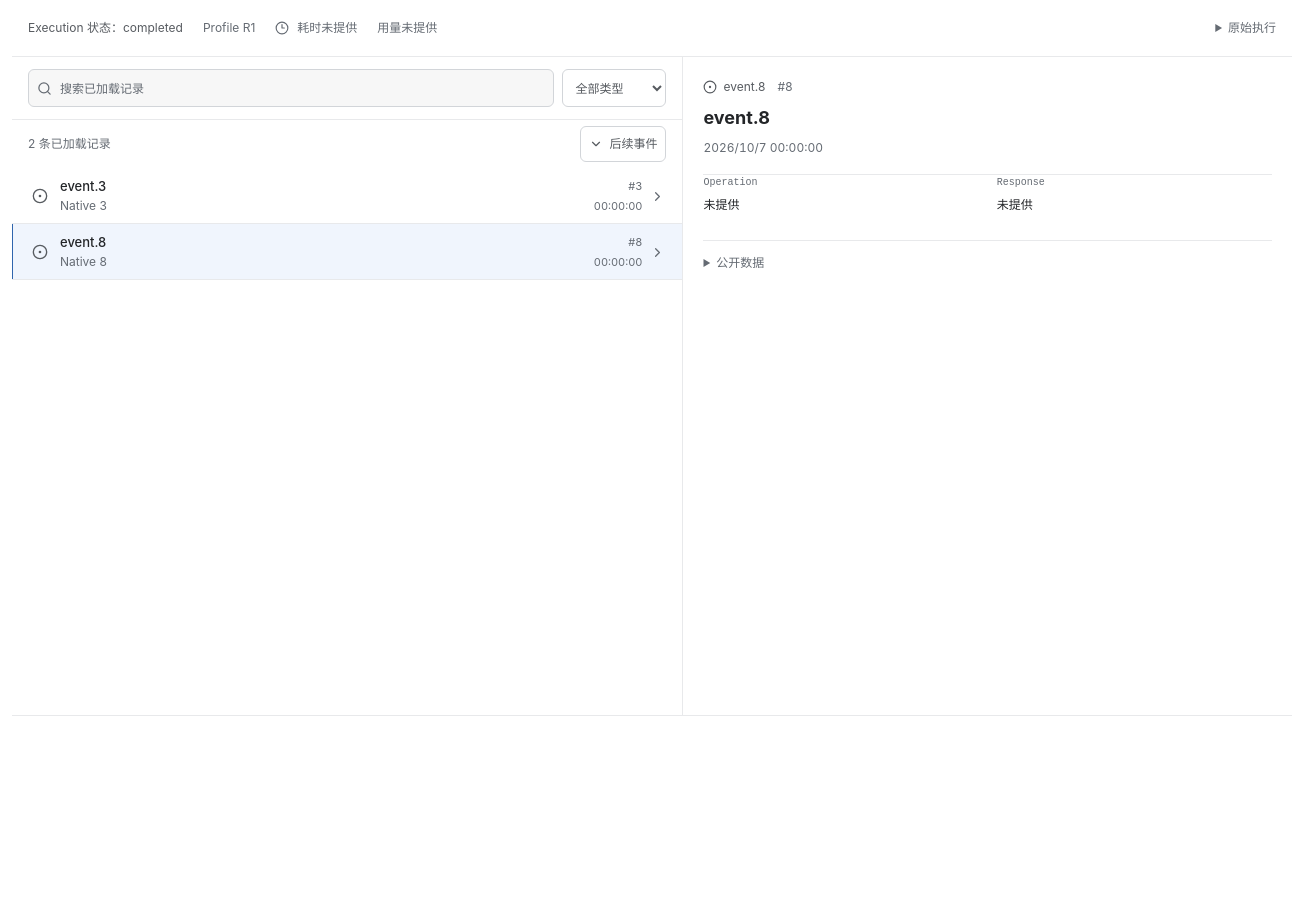
Test: loads a next native page only on request and keeps loaded filters independent
Expected: the heading "event.8" is shown, top-left (704, 107), bottom-right (770, 128)
Type "Native" into the search field.
click(307, 88); type("Native")  # box top-left (60, 70), bottom-right (554, 106)
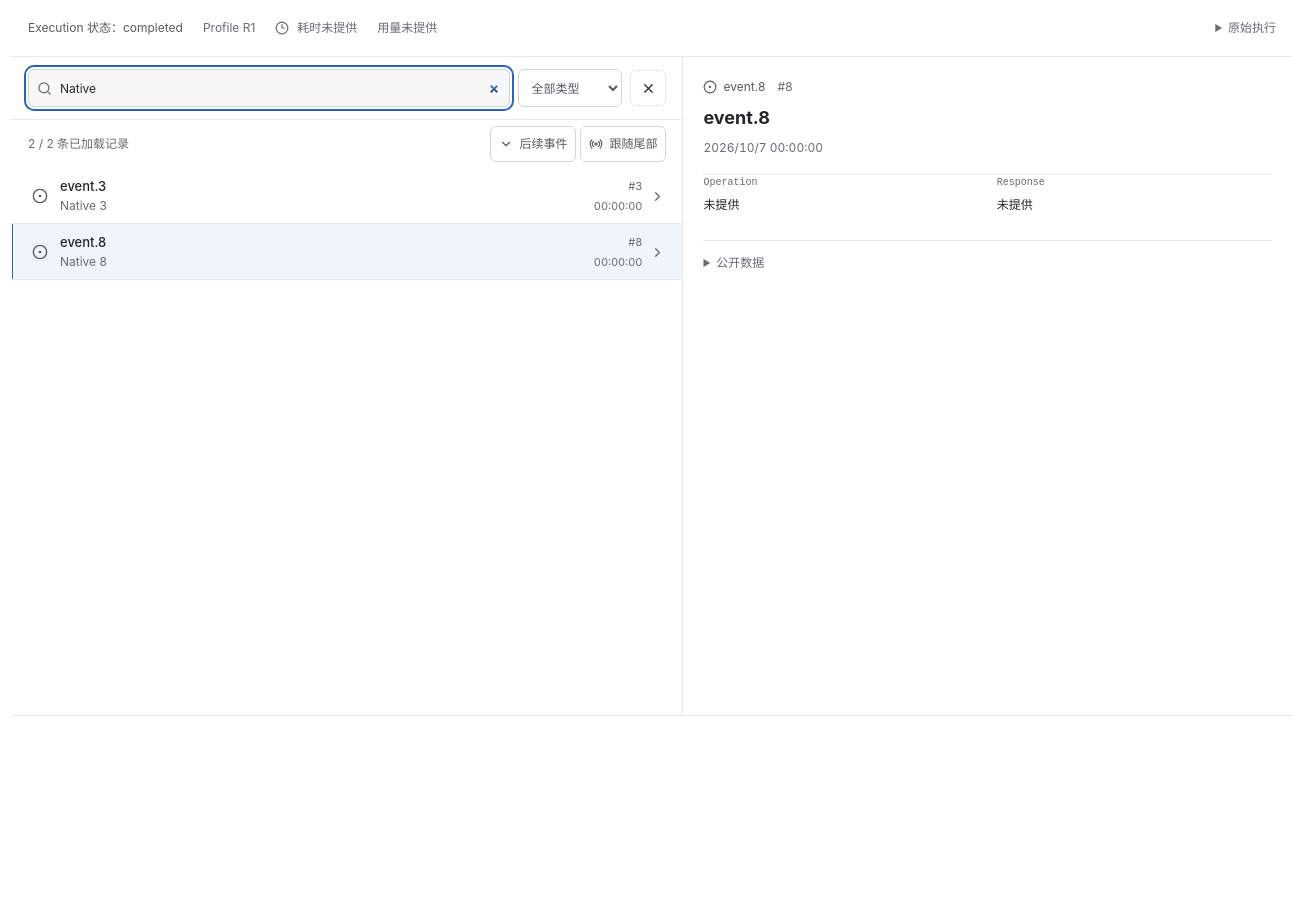
Click the button "后续事件".
click(533, 144)  # box top-left (490, 126), bottom-right (576, 162)
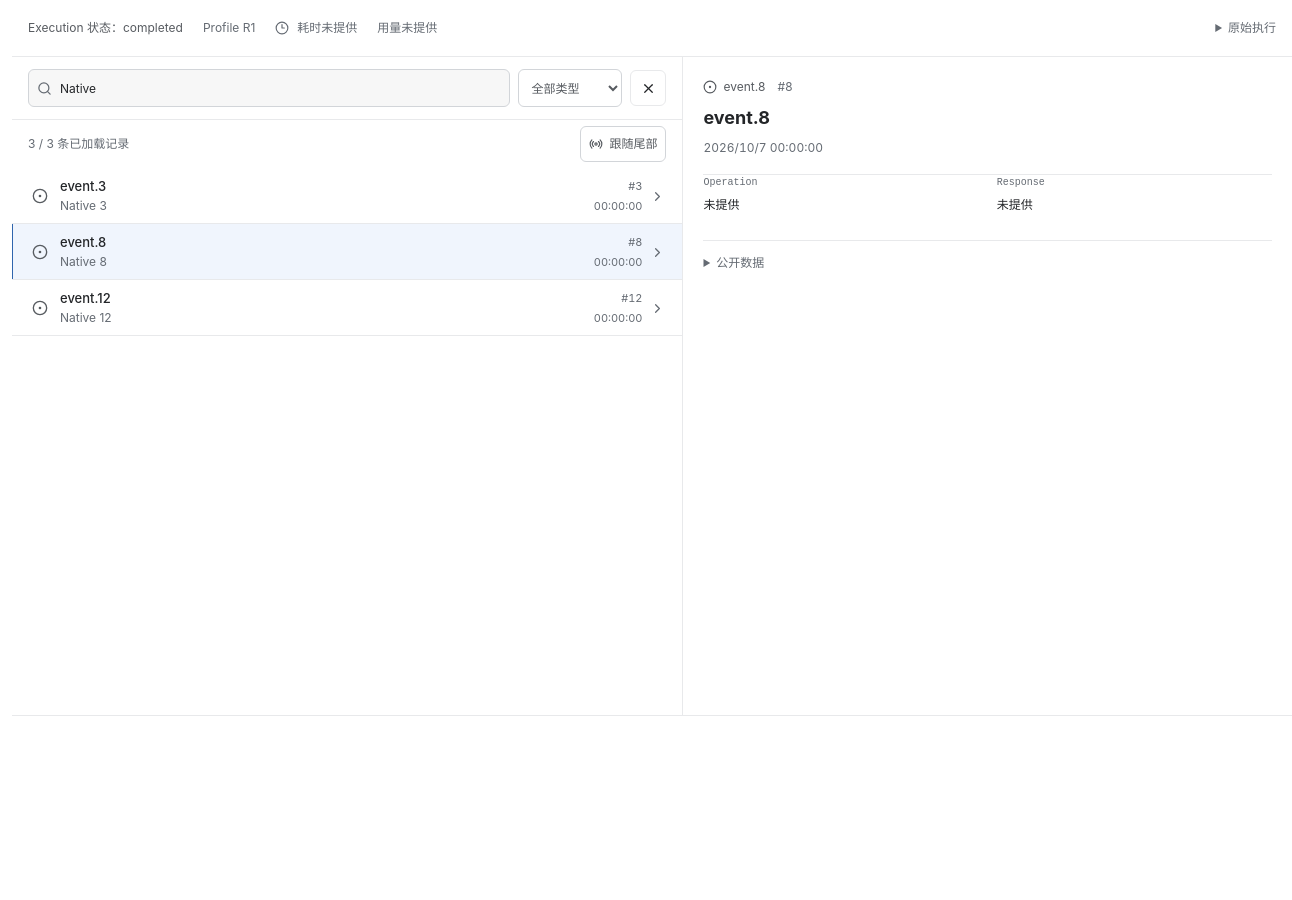
Expected: the heading "event.8" is shown, top-left (704, 107), bottom-right (770, 128)
Expected: the button "event.12 Native 12 #12 00:00:00" is shown, top-left (12, 280), bottom-right (682, 336)
